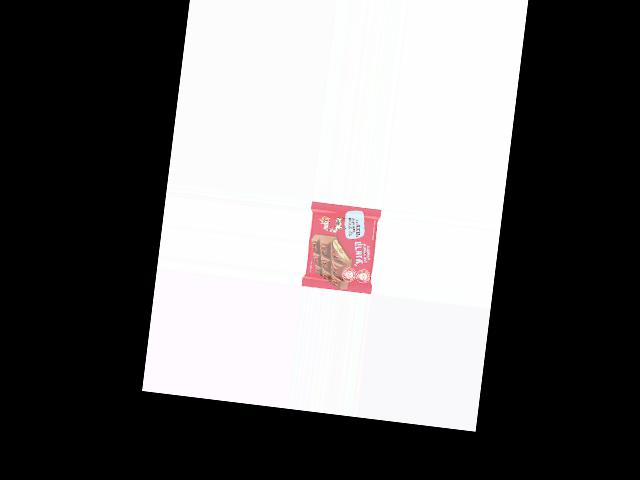chocolate: (302, 204, 381, 293)
